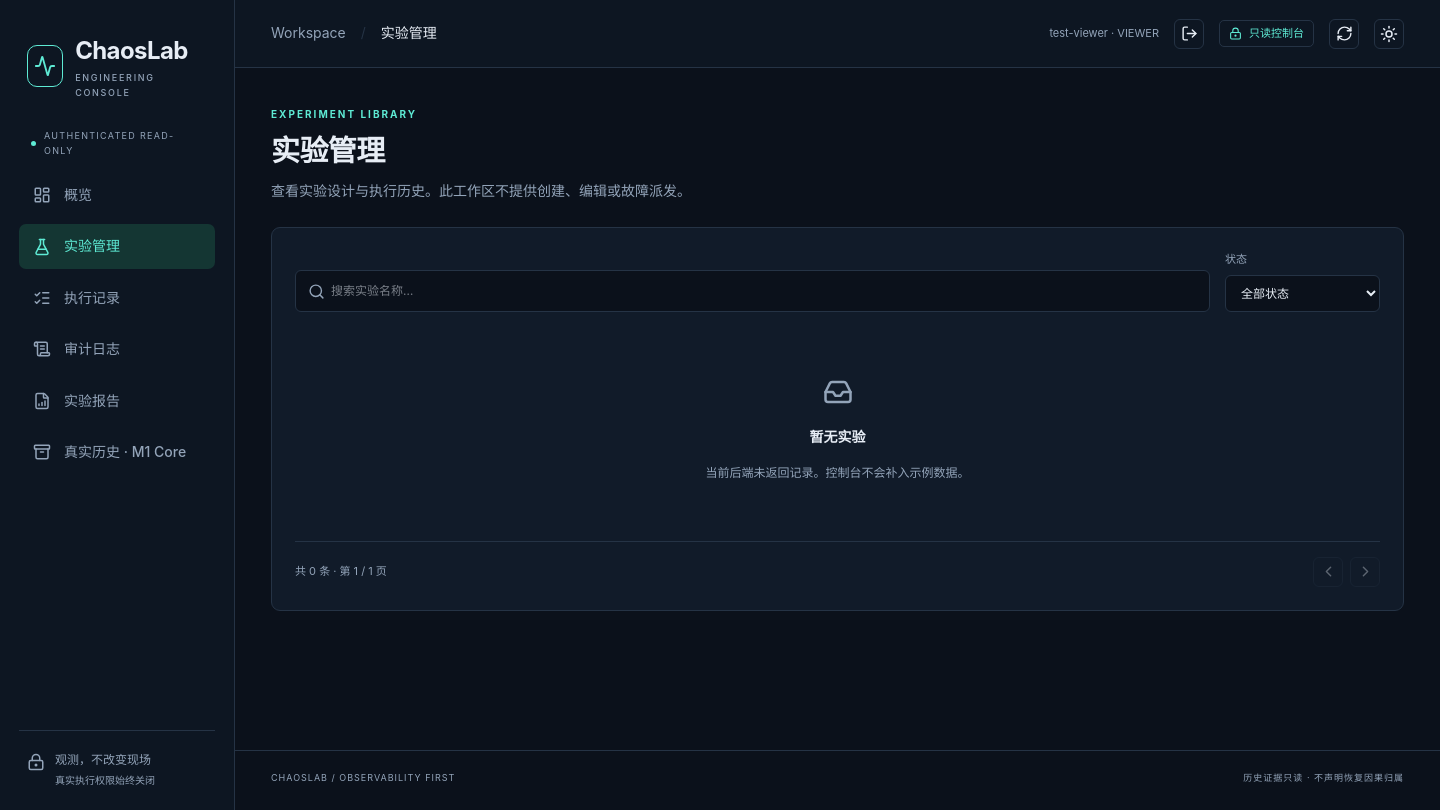
Scenario: read-only routes › switches and persists theme
The image size is (1440, 810).
Expected: the heading "暂无实验" is shown, [810,426,866,449]
Click the button named "切换浅色主题" at [1389, 34], box [1374,18,1404,48]
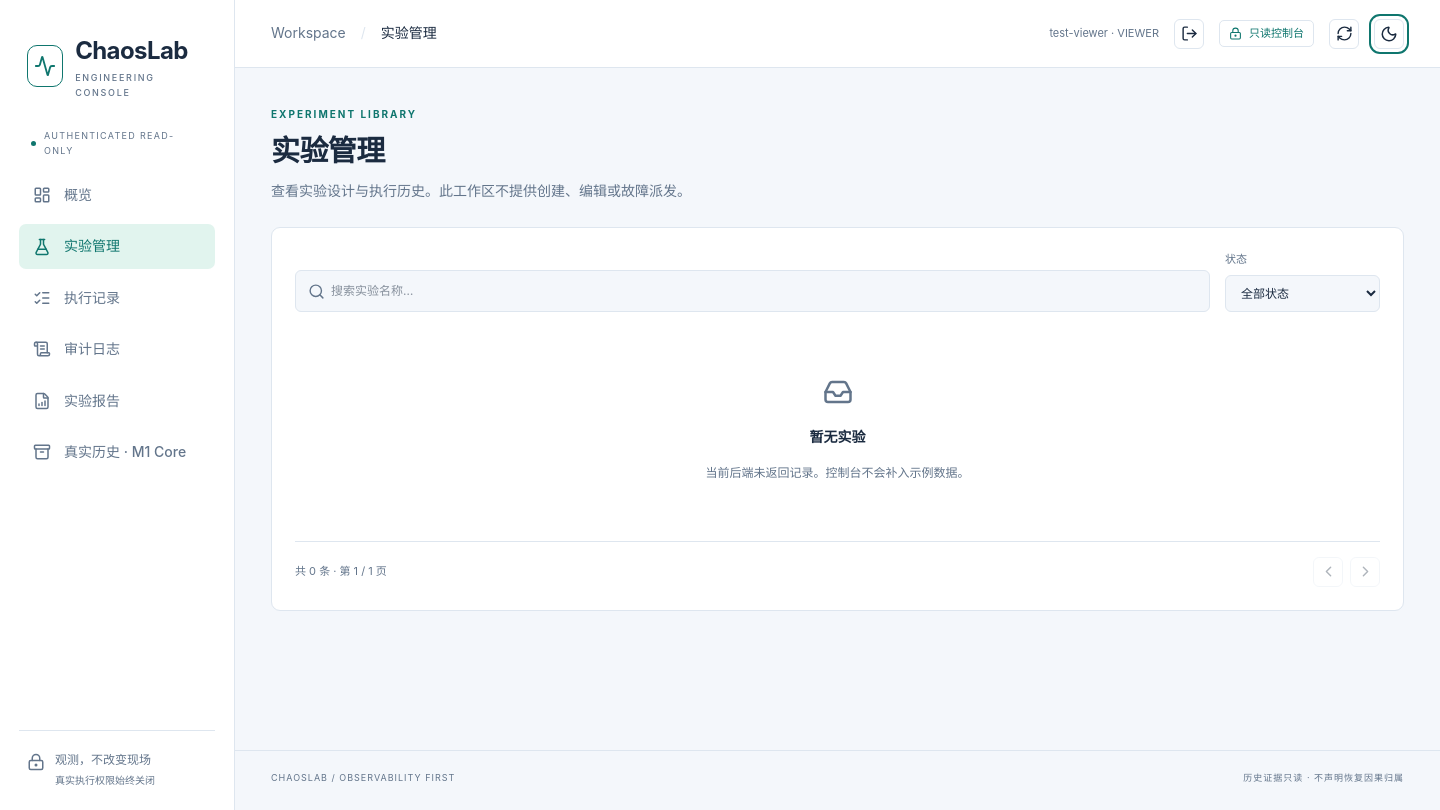
Result: the button named "切换深色主题" is shown at [1374,18,1404,48]
